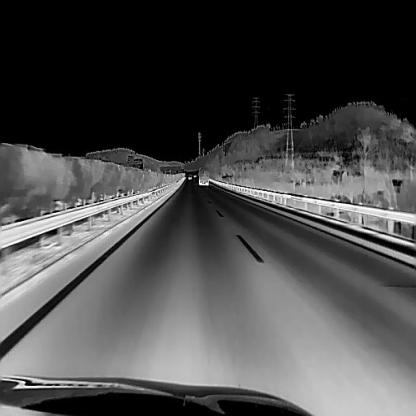truck: (197, 166, 209, 184)
